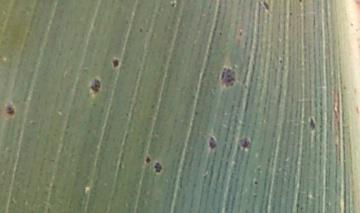tarspot: (220, 66, 236, 87), (89, 78, 101, 93), (207, 135, 217, 152), (238, 137, 250, 150), (152, 160, 162, 174), (5, 104, 15, 116), (111, 57, 120, 69), (261, 1, 271, 11), (308, 116, 315, 129), (354, 103, 360, 117), (144, 156, 151, 165), (169, 2, 176, 9), (287, 10, 293, 18), (193, 109, 199, 117), (149, 102, 155, 110), (277, 58, 283, 65), (253, 179, 259, 186), (124, 111, 130, 118), (341, 84, 347, 90), (252, 193, 258, 199), (256, 166, 262, 172), (217, 30, 222, 37), (238, 30, 243, 37), (138, 26, 143, 33), (299, 204, 304, 211), (349, 21, 354, 28), (297, 1, 303, 3)
